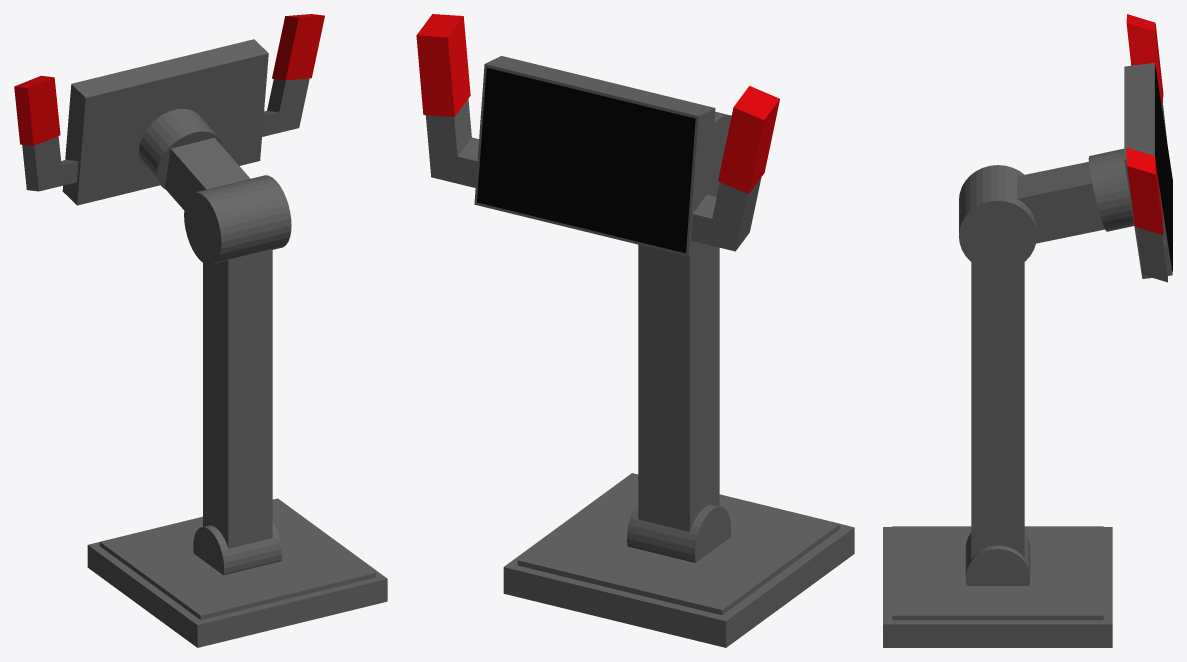
The model's file is zenithsyolk.fbx.
3 views of the same model, side by side, from view 1: azimuth 30°, elevation 25°; view 2: azimuth 150°, elevation 25°; view 3: azimuth 270°, elevation 25° (orthographic). The views are drawn at different scales.
Parts seen in each view (by area): view 1: YolkBase, BaseToDecorCollector, YolkScreen, YolkConnectorDecor, BaseToYolkConnector, ScreenLeftRightRotatePivot, YolkForwardBackwardPivot, RightHandleGrip, LeftHandleGrip, RightHandleBearing, LeftHandleBearing; view 2: YolkBase, YolkDisplay, BaseToDecorCollector, YolkScreen, LeftHandleGrip, RightHandleGrip, YolkForwardBackwardPivot, LeftHandleBearing, RightHandleBearing, YolkConnectorDecor; view 3: YolkBase, BaseToDecorCollector, YolkConnectorDecor, BaseToYolkConnector, YolkScreen, ScreenLeftRightRotatePivot, YolkForwardBackwardPivot, LeftHandleGrip, YolkDisplay, RightHandleGrip, LeftHandleBearing.
Boxes of the visible parts, bbox=[...] form: YolkBase: bbox=[87, 498, 387, 647]; BaseToDecorCollector: bbox=[203, 249, 272, 548]; YolkScreen: bbox=[62, 39, 268, 205]; YolkConnectorDecor: bbox=[184, 175, 291, 265]; BaseToYolkConnector: bbox=[164, 137, 250, 209]; ScreenLeftRightRotatePivot: bbox=[139, 108, 222, 188]; YolkForwardBackwardPivot: bbox=[193, 522, 282, 575]; RightHandleGrip: bbox=[14, 75, 60, 145]; LeftHandleGrip: bbox=[272, 14, 324, 80]; RightHandleBearing: bbox=[22, 136, 78, 191]; LeftHandleBearing: bbox=[262, 78, 309, 136]; YolkBase: bbox=[503, 473, 854, 647]; YolkDisplay: bbox=[477, 67, 695, 253]; BaseToDecorCollector: bbox=[638, 244, 719, 531]; YolkScreen: bbox=[474, 56, 715, 256]; LeftHandleGrip: bbox=[416, 14, 470, 116]; RightHandleGrip: bbox=[718, 86, 779, 194]; YolkForwardBackwardPivot: bbox=[627, 500, 730, 562]; LeftHandleBearing: bbox=[426, 99, 478, 187]; RightHandleBearing: bbox=[691, 177, 761, 251]; YolkConnectorDecor: bbox=[709, 111, 731, 196]; YolkBase: bbox=[883, 526, 1112, 647]; BaseToDecorCollector: bbox=[971, 262, 1024, 557]; YolkConnectorDecor: bbox=[959, 165, 1036, 271]; BaseToYolkConnector: bbox=[1017, 161, 1104, 243]; YolkScreen: bbox=[1124, 63, 1172, 278]; ScreenLeftRightRotatePivot: bbox=[1088, 148, 1134, 231]; YolkForwardBackwardPivot: bbox=[965, 532, 1030, 585]; LeftHandleGrip: bbox=[1126, 147, 1163, 235]; YolkDisplay: bbox=[1155, 66, 1172, 271]; RightHandleGrip: bbox=[1126, 14, 1163, 102]; LeftHandleBearing: bbox=[1136, 227, 1167, 282].
Size of the model in its own units: 251 by 397 by 203.
